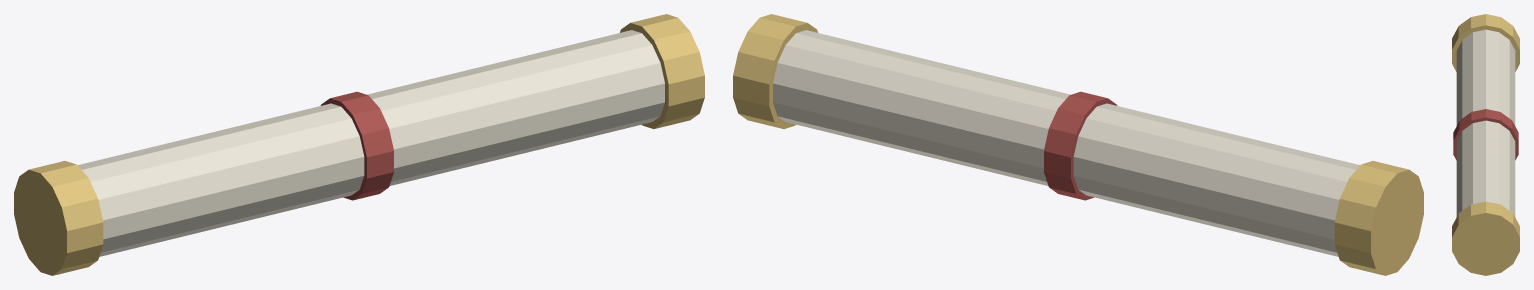
Rendered from steampunk-airship-dock-and-workshop-rolled-chart-55a3efb1__36088.glb.
3 views of the same model, side by side, from view 1: azimuth 30°, elevation 25°; view 2: azimuth 150°, elevation 25°; view 3: azimuth 270°, elevation 25° (orthographic). The views are drawn at different scales.
Parts seen in each view (by area): view 1: rolled-chart; view 2: rolled-chart; view 3: rolled-chart.
Part boxes in pixels (<box>): rolled-chart: <box>14,14,704,275</box>; rolled-chart: <box>733,14,1423,275</box>; rolled-chart: <box>1452,14,1519,275</box>.
Bounding box in the file's own units: 0.7024 × 0.104 × 0.1014.
